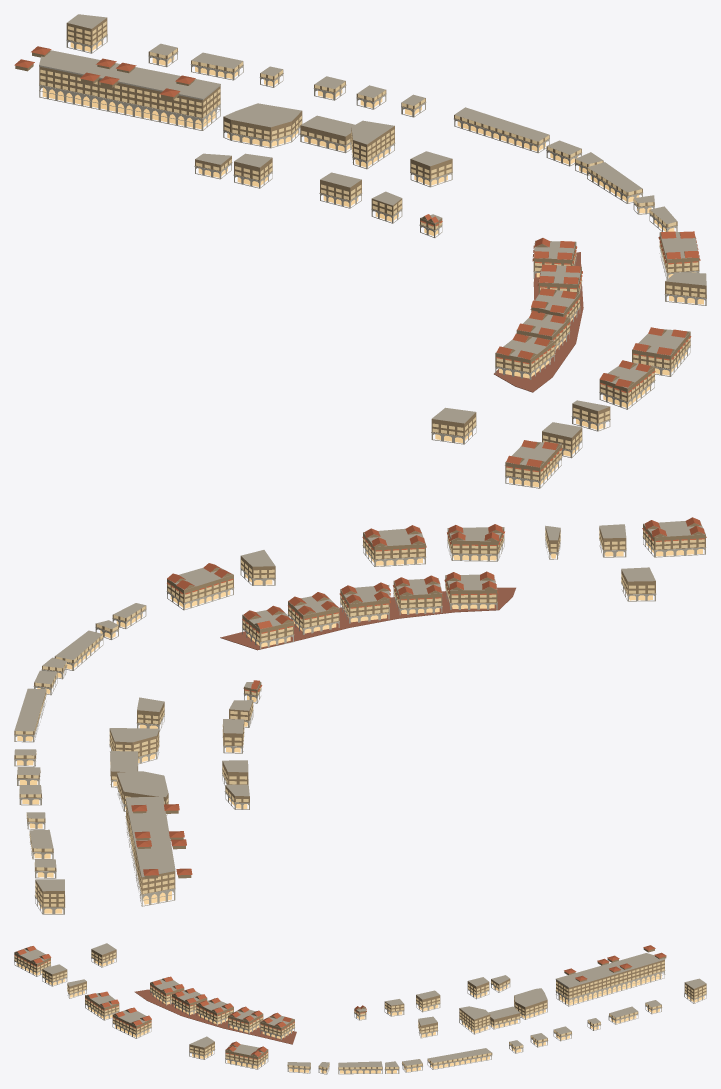
The model's file is bahria_ph7_spring_north_business_square.glb.
3 views of the same model, one above another, from view 1: azimuth 30°, elevation 25°; view 2: azimuth 150°, elevation 25°; view 3: azimuth 270°, elevation 25° (orthographic). The views are drawn at different scales.
Visible parts, largest first — view 1: m_flat_roof, m_sand_stucco, m_cream_piers, m_window_louvre, m_red_roof, m_shopfront_dark, m_brick_paving; view 2: m_flat_roof, m_sand_stucco, m_window_louvre, m_cream_piers, m_red_roof, m_shopfront_dark, m_brick_paving; view 3: m_sand_stucco, m_flat_roof, m_cream_piers, m_window_louvre, m_shopfront_dark, m_red_roof, m_brick_paving.
Part boxes in pixels (x1,y1,x2,y2): m_flat_roof: (39, 14, 706, 467); m_sand_stucco: (15, 18, 706, 480); m_cream_piers: (39, 34, 706, 488); m_window_louvre: (40, 21, 705, 480); m_red_roof: (14, 46, 700, 472); m_shopfront_dark: (42, 40, 703, 487); m_brick_paving: (494, 252, 583, 392); m_flat_roof: (14, 521, 705, 891); m_sand_stucco: (14, 523, 705, 907); m_window_louvre: (15, 530, 704, 906); m_cream_piers: (14, 536, 706, 914); m_red_roof: (131, 517, 706, 875); m_shopfront_dark: (17, 542, 702, 913); m_brick_paving: (220, 587, 515, 650); m_sand_stucco: (14, 948, 706, 1069); m_flat_roof: (14, 943, 706, 1067); m_cream_piers: (14, 957, 706, 1074); m_window_louvre: (14, 952, 706, 1069); m_shopfront_dark: (16, 959, 704, 1073); m_red_roof: (14, 945, 666, 1059); m_brick_paving: (134, 989, 296, 1044).
Size of the model in its own units: 290 by 25.02 by 713.
